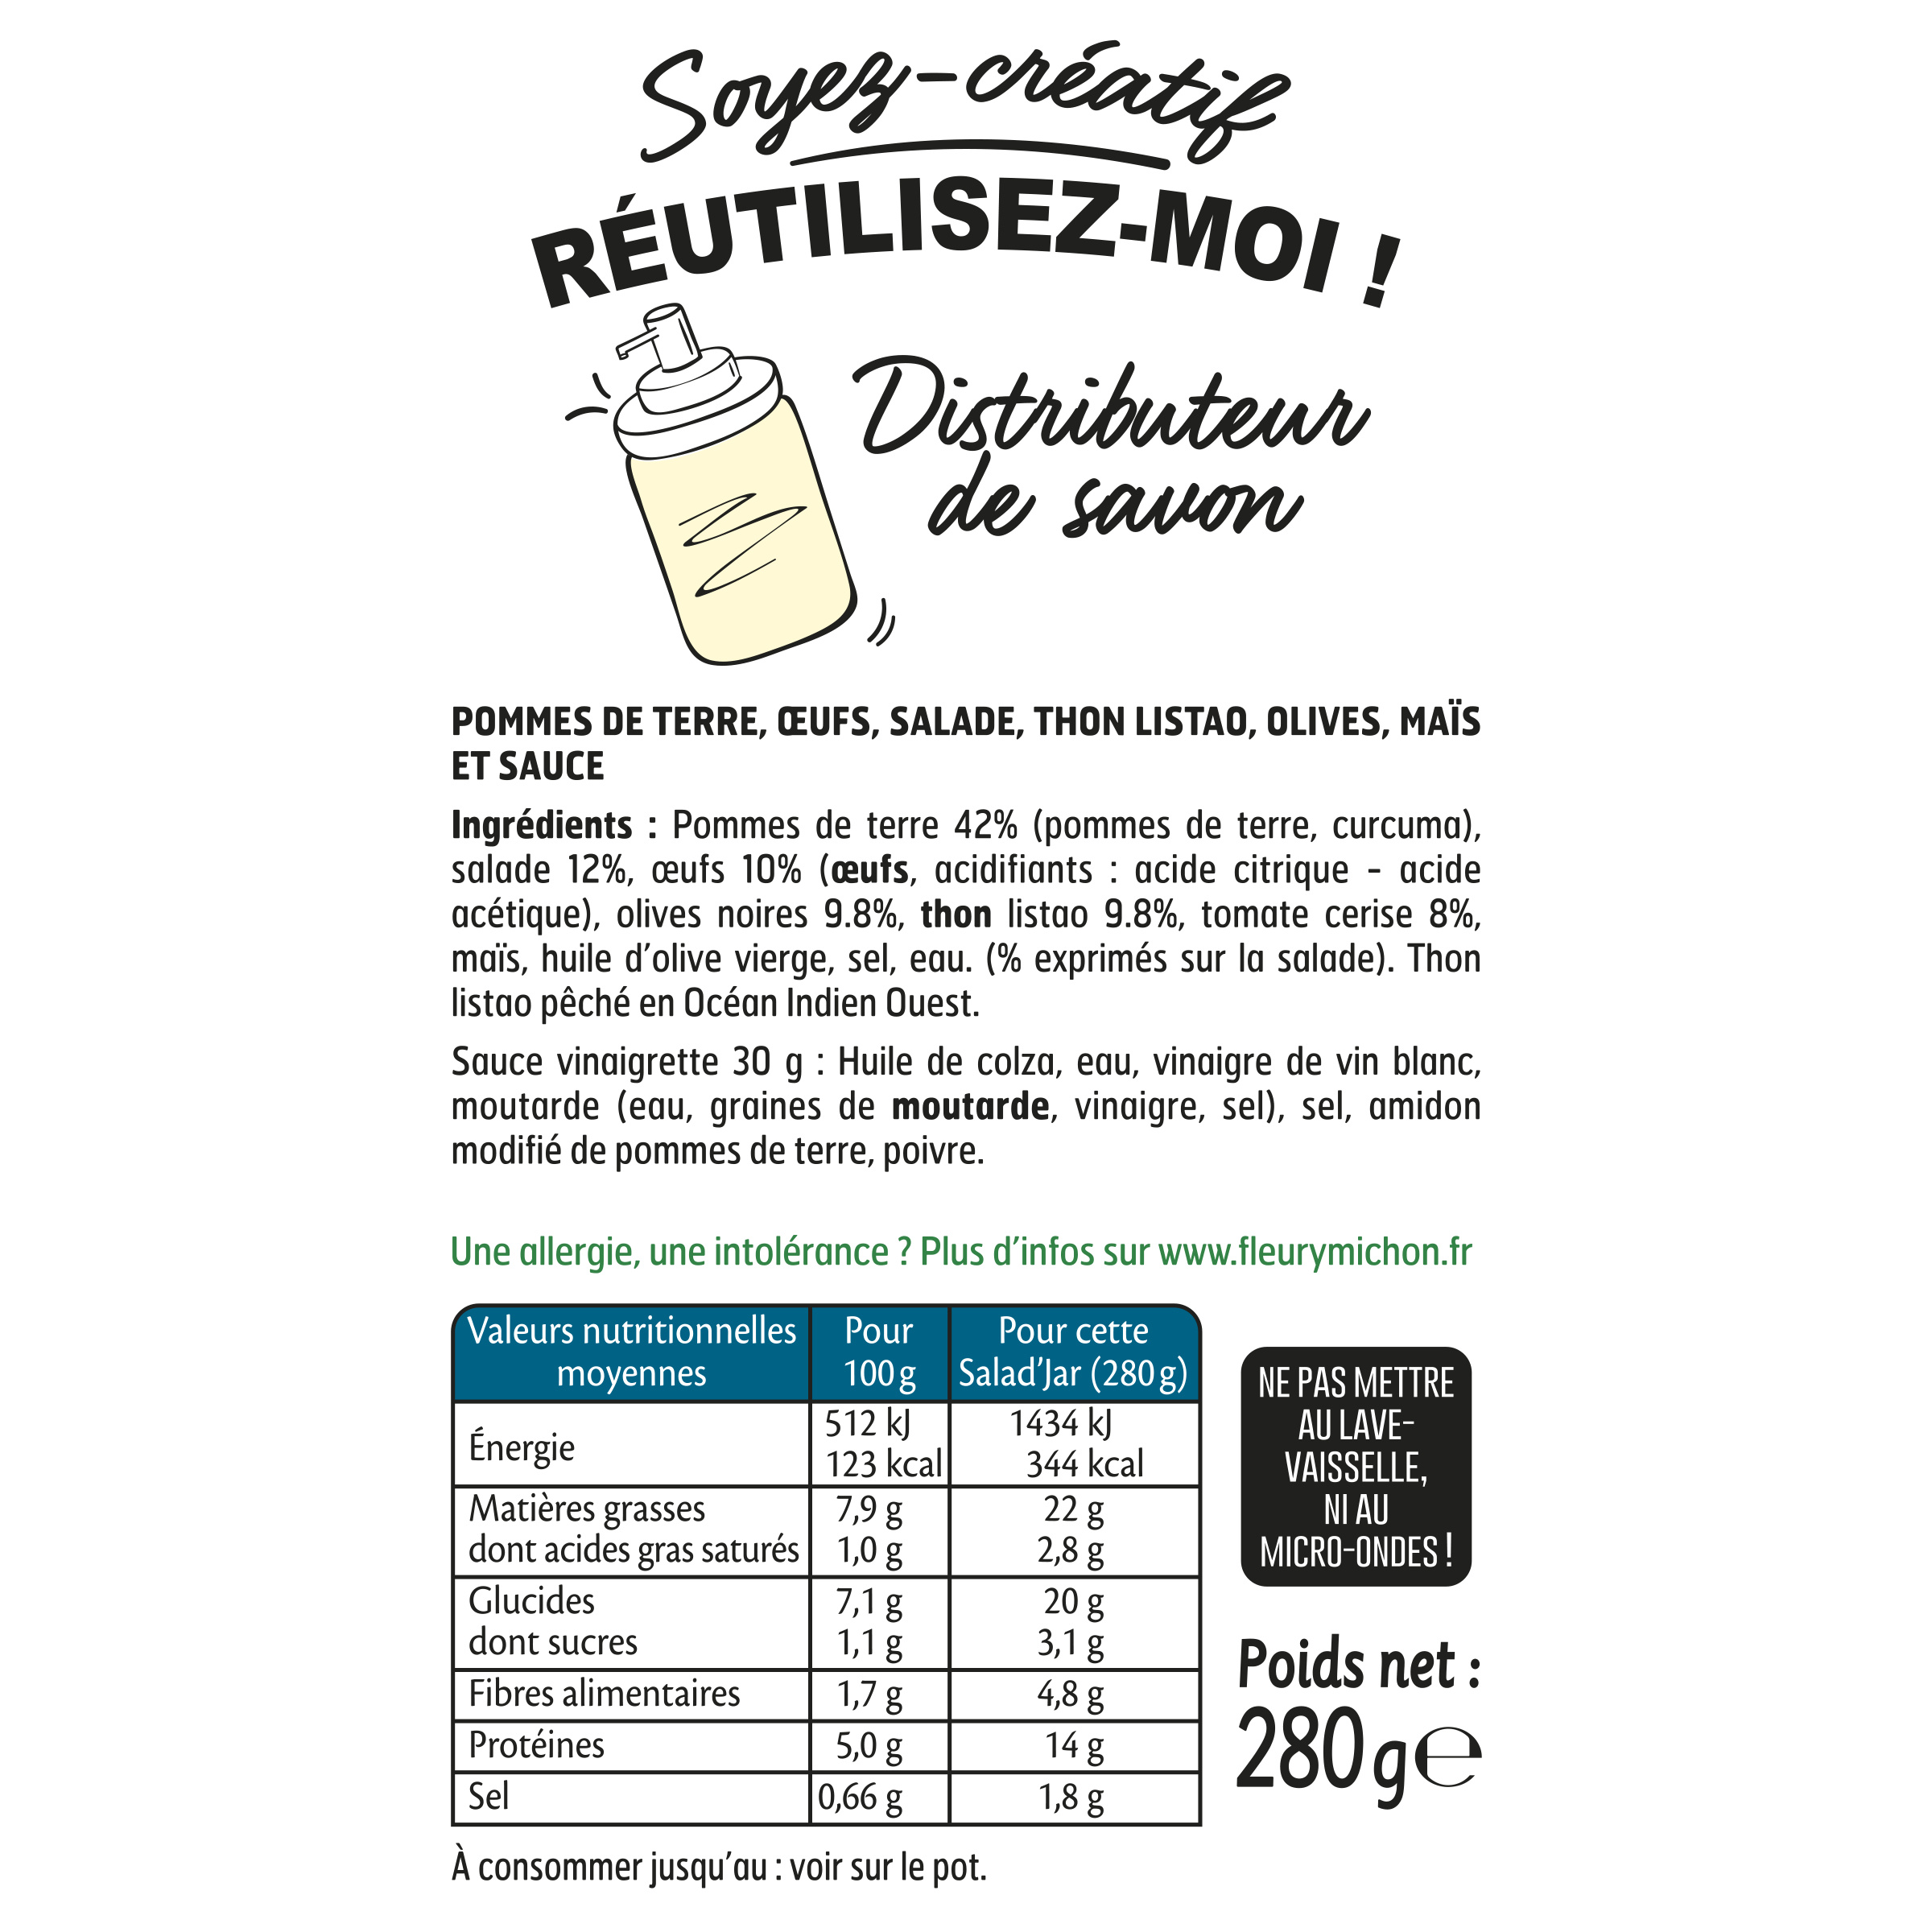column: (467, 1313, 798, 1815), (959, 1316, 1189, 1815), (817, 1313, 941, 1821)
table: (448, 1297, 1210, 1838)
